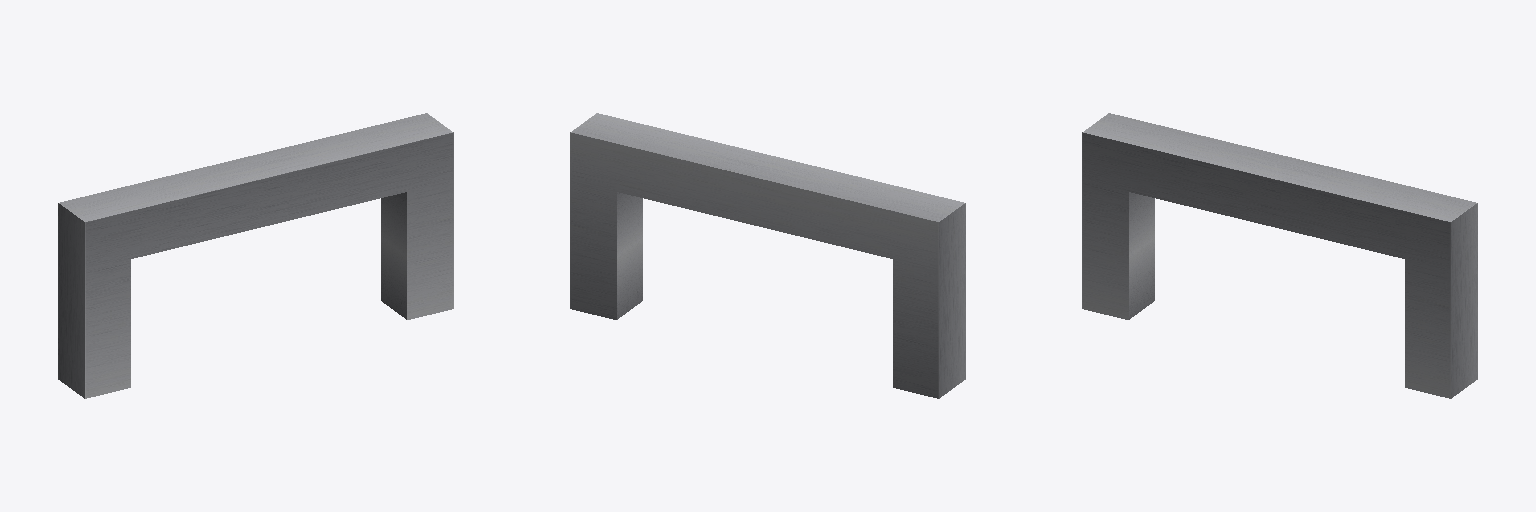
The picture shows the model from 3 angles: view 1: azimuth 30°, elevation 25°; view 2: azimuth 150°, elevation 25°; view 3: azimuth 330°, elevation 25°; orthographic projection.
Visible parts, largest first — view 1: handle_top_right; view 2: handle_top_right; view 3: handle_top_right.
Part boxes in pixels (x1,y1,x2,y2): handle_top_right: (58, 113, 453, 398); handle_top_right: (570, 113, 965, 398); handle_top_right: (1082, 113, 1477, 398).
Size of the model in its own units: 0.12 by 0.055 by 0.015.
Materials: 1 (1 with a texture image).